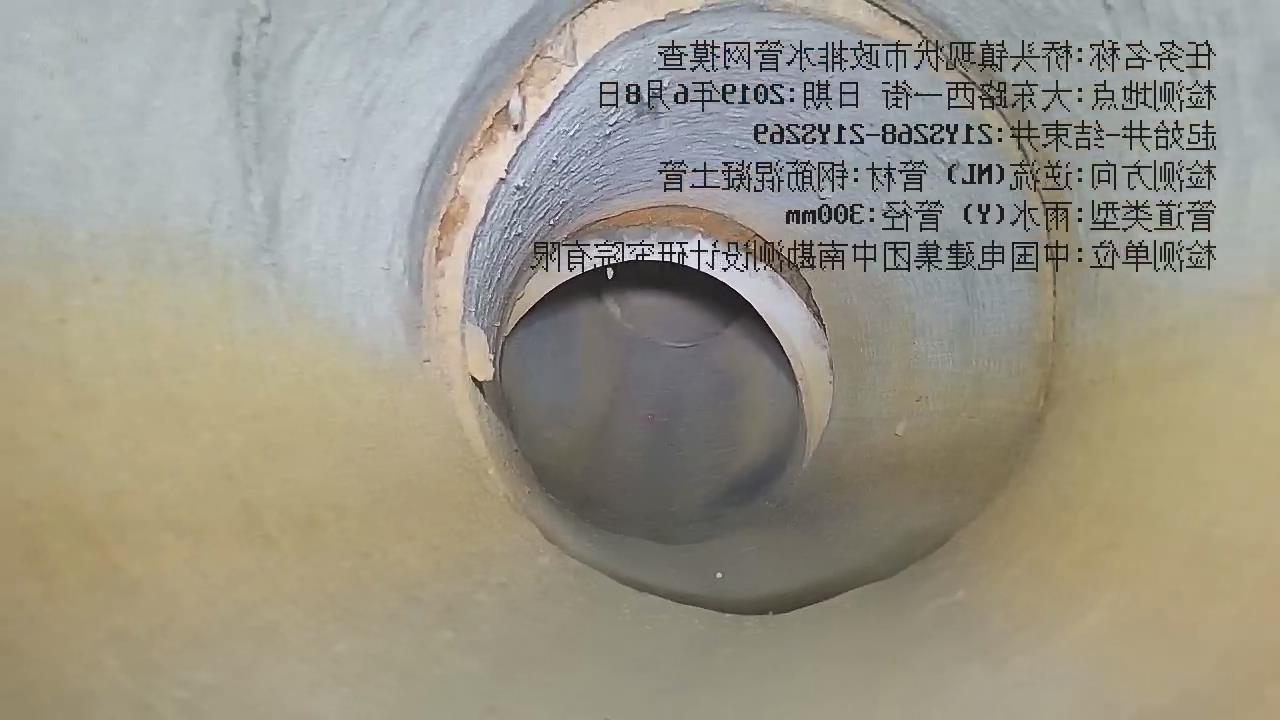CKTJ: (426, 0, 707, 378), (502, 206, 834, 450), (776, 0, 920, 39)
